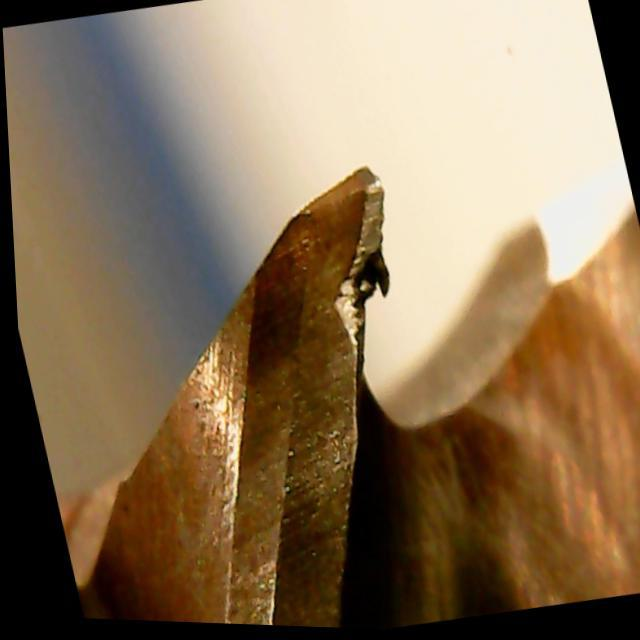Tool-wear-class-2: (189, 130, 472, 491)
